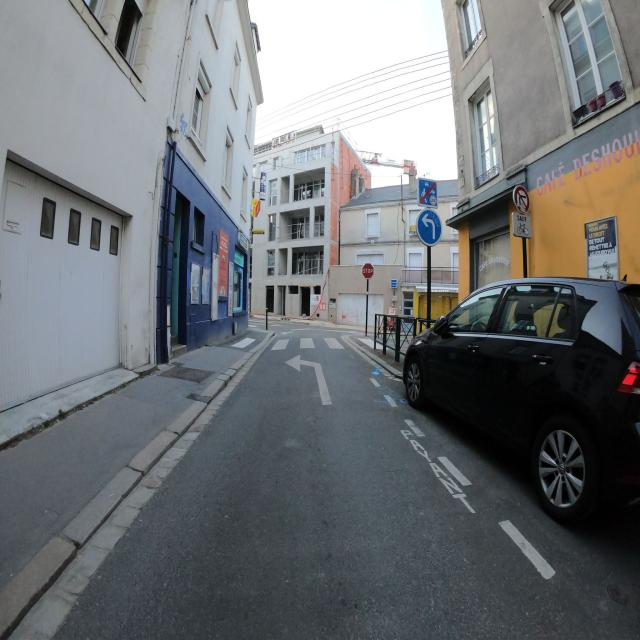car: (402, 275, 640, 529)
